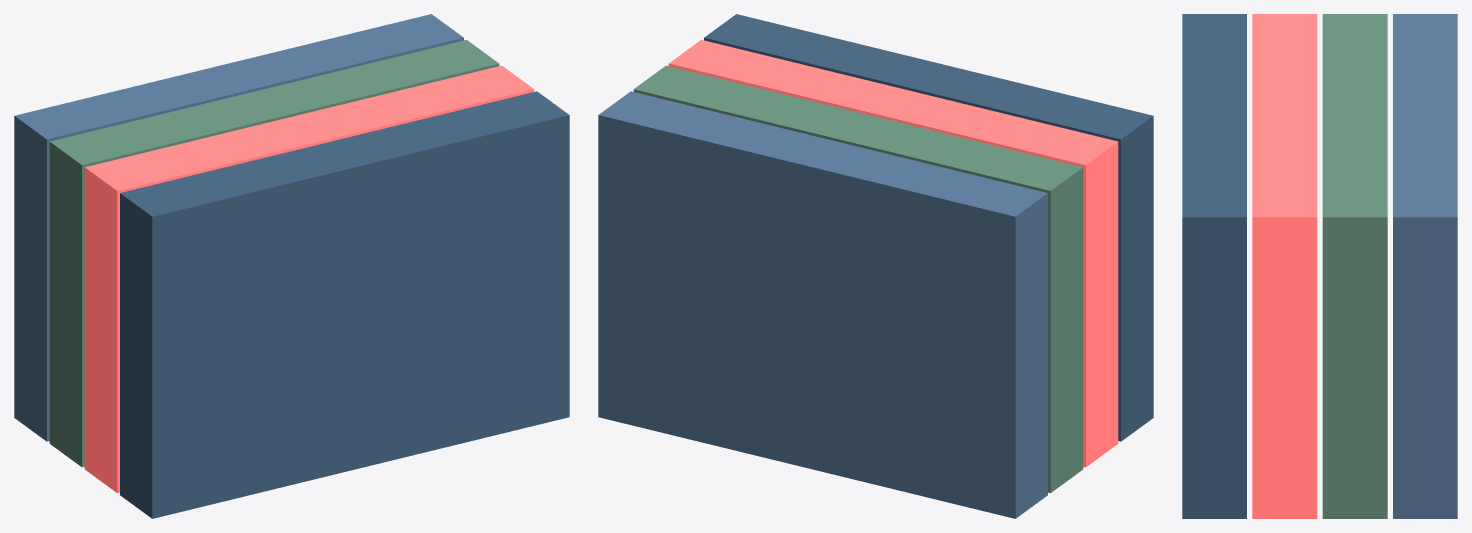
File: BOOK_STACK_001.glb
3 renders of one model, left to right at view 1: azimuth 30°, elevation 25°; view 2: azimuth 150°, elevation 25°; view 3: azimuth 270°, elevation 25°, orthographic.
Visible parts, largest first — view 1: book_003, book_000, book_001, book_002; view 2: book_000, book_001, book_002, book_003; view 3: book_001, book_002, book_000, book_003.
Boxes of the visible parts, box(x1,y1,x2,y2) form: book_003: box(120, 91, 569, 518); book_000: box(14, 14, 463, 441); book_001: box(49, 39, 499, 467); book_002: box(84, 65, 534, 493); book_000: box(598, 91, 1047, 518); book_001: box(633, 65, 1083, 493); book_002: box(668, 39, 1118, 467); book_003: box(704, 14, 1153, 441); book_001: box(1322, 14, 1387, 518); book_002: box(1252, 14, 1317, 518); book_000: box(1393, 14, 1457, 518); book_003: box(1182, 14, 1246, 518).
Size of the model in its own units: 0.26 by 0.18 by 0.149.
